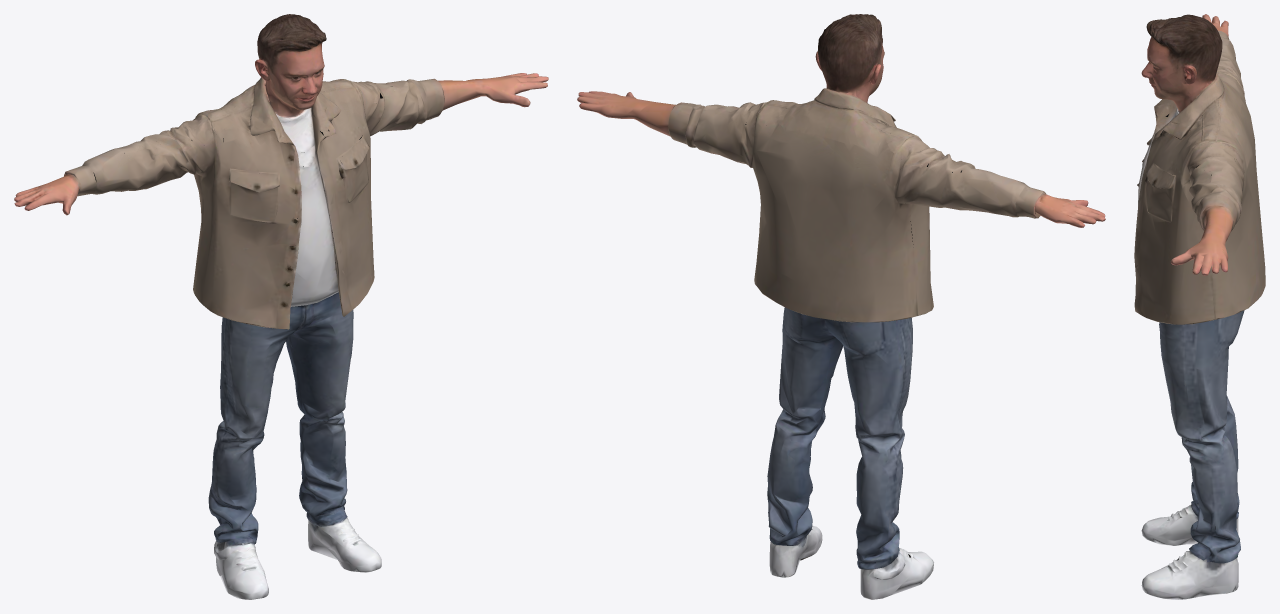
Rendered from ben.glb.
The picture shows the model from 3 angles, left to right: view 1: azimuth 30°, elevation 25°; view 2: azimuth 150°, elevation 25°; view 3: azimuth 270°, elevation 25°; orthographic projection.
Visible parts, largest first — view 1: tommy; view 2: tommy; view 3: tommy.
Boxes of the visible parts, box(x1,y1,x2,y2) form: tommy: box(14, 14, 548, 599); tommy: box(577, 14, 1105, 599); tommy: box(1134, 14, 1265, 599).
Bounding box in the file's own units: 1.81 × 1.8 × 0.3912.
Materials: 1 (1 with a texture image).
